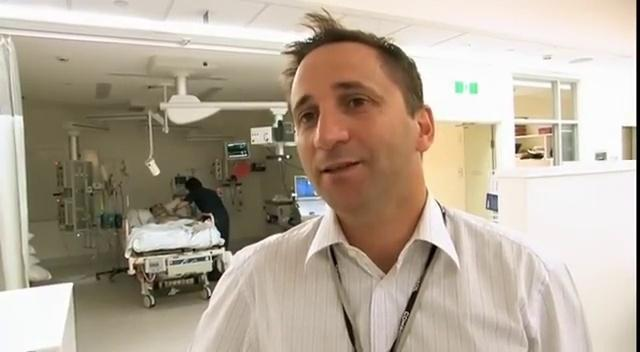others: (183, 8, 595, 351), (182, 174, 234, 252)
patient: (126, 201, 218, 243)
